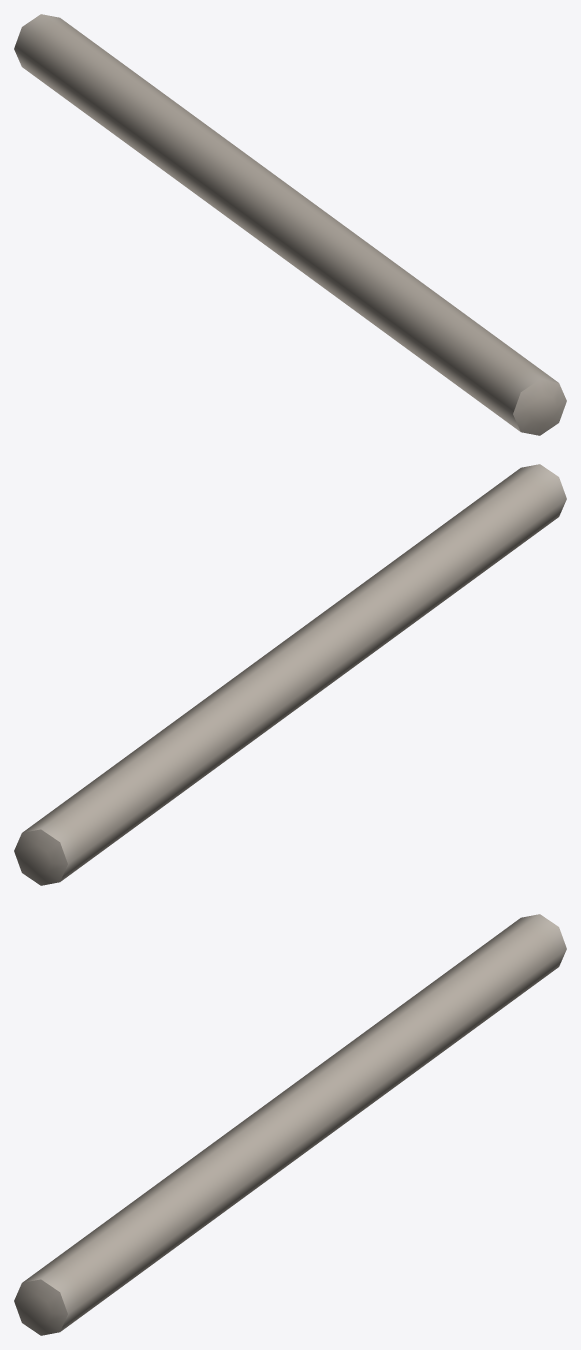
Rendered from Alniyat_Antenna_2_1_2_Arm.obj.
The picture shows the model from 3 angles, top to bottom: view 1: azimuth 30°, elevation 25°; view 2: azimuth 150°, elevation 25°; view 3: azimuth 330°, elevation 25°; orthographic projection.
Parts seen in each view (by area): view 1: Alniyat_Antenna_2_1_2_Arm; view 2: Alniyat_Antenna_2_1_2_Arm; view 3: Alniyat_Antenna_2_1_2_Arm.
Part boxes in pixels (x1,y1,x2,y2): Alniyat_Antenna_2_1_2_Arm: (14,14,566,435); Alniyat_Antenna_2_1_2_Arm: (14,464,566,885); Alniyat_Antenna_2_1_2_Arm: (14,914,566,1335).
Size of the model in its own units: 0.025 by 0.025 by 0.405.
